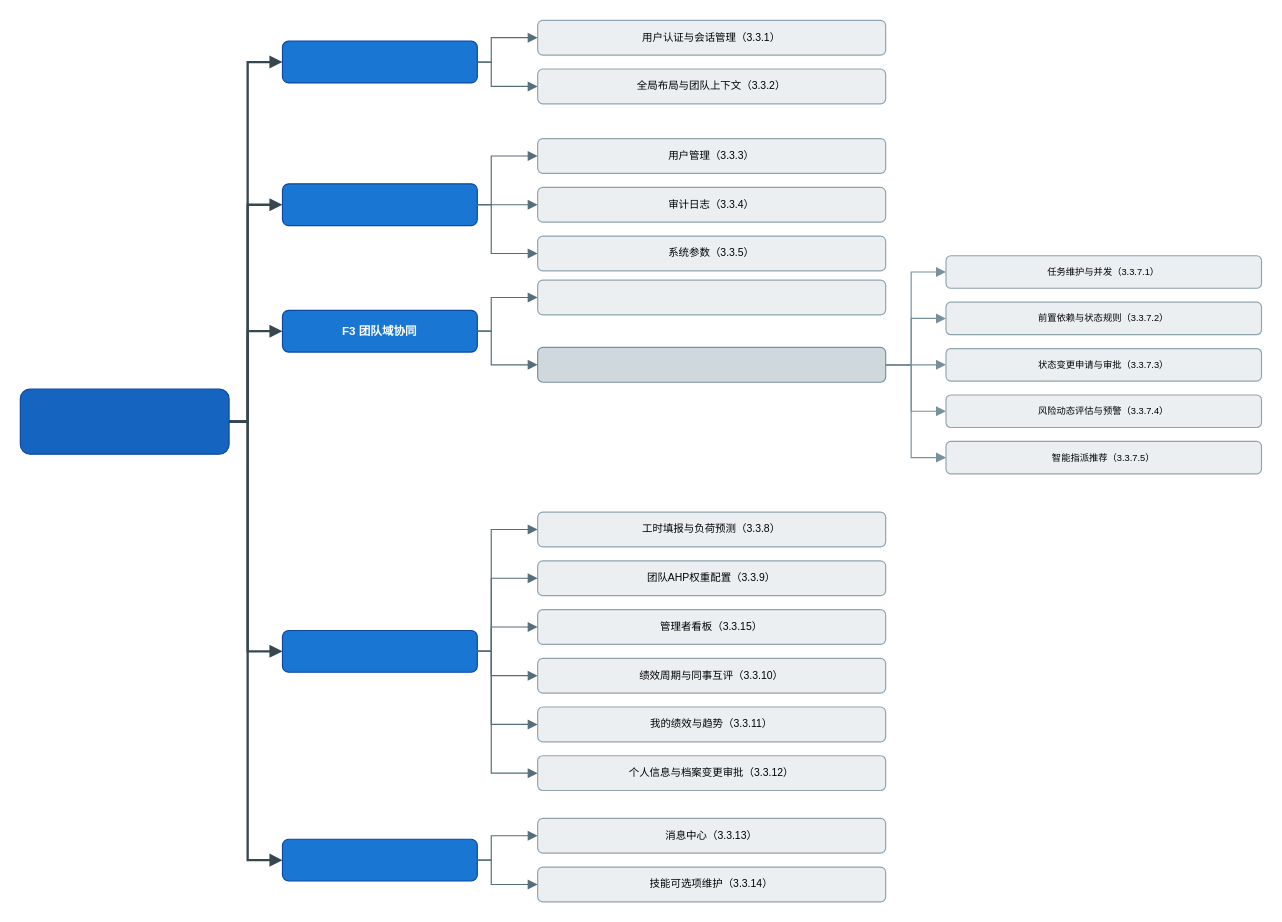
This 1282x922 diagram has some shape labels left out. Here are the shapes that lost their labels. From the top down, the box of each, then its label:
(281, 40, 477, 83): F1 基础与公共入口
(281, 183, 477, 226): F2 平台系统管理
(536, 279, 886, 315): 团队与成员管理（3.3.6）
(536, 346, 886, 382): 团队任务协作（3.3.7）
(19, 388, 229, 454): 任务管理与绩效评估系统
(281, 629, 477, 672): F4 绩效与个人事务
(281, 838, 477, 881): F5 消息与技能
